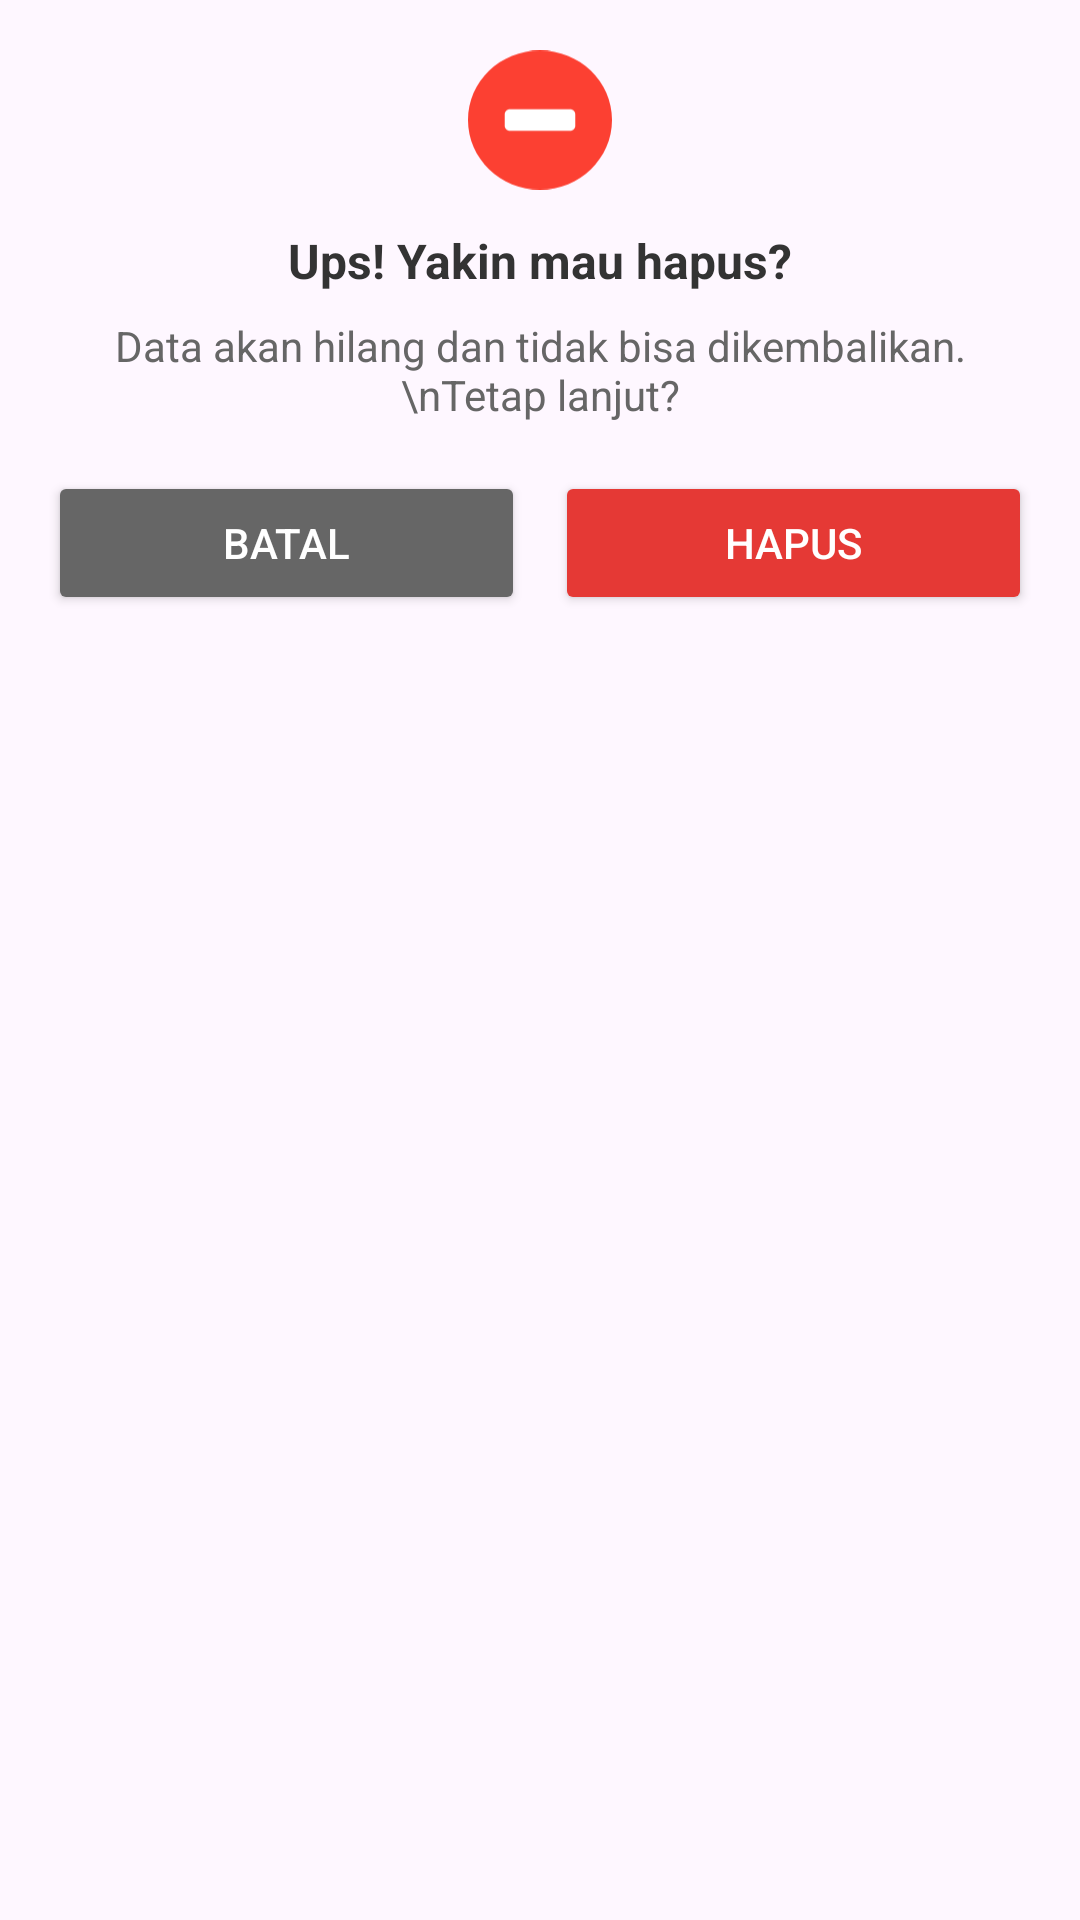

Icon click points for this 1080 × 1920 phone screenshot, format [x,y]:
warning: [540,120]
